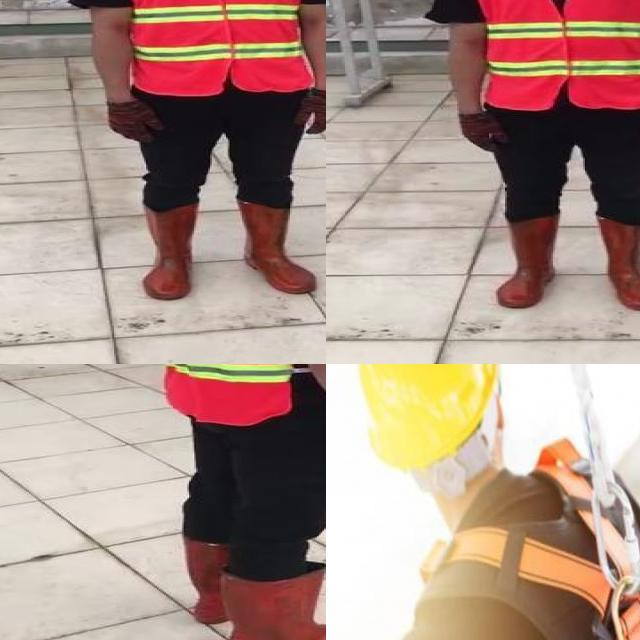Harness: (445, 439, 640, 640)
boots: (172, 533, 314, 631), (219, 569, 326, 640), (238, 197, 316, 294), (136, 199, 200, 301), (498, 213, 555, 310), (599, 213, 640, 312)
hand_glove: (105, 102, 166, 142), (459, 111, 512, 154), (289, 88, 326, 135)
head_helmet: (67, 0, 326, 310)
person: (425, 0, 640, 320), (124, 364, 326, 640)
vest: (474, 0, 640, 111), (115, 0, 309, 93), (142, 364, 313, 424)
